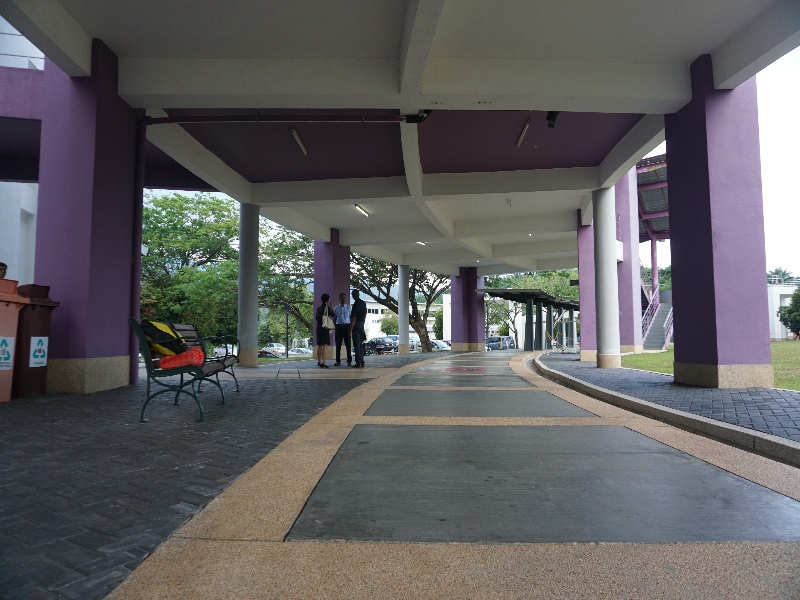Block D Pillar 2: (4, 4, 800, 510)
pillar: (657, 51, 785, 404), (28, 37, 145, 389), (589, 175, 623, 380), (228, 196, 266, 367), (449, 264, 486, 357), (397, 263, 413, 359)
